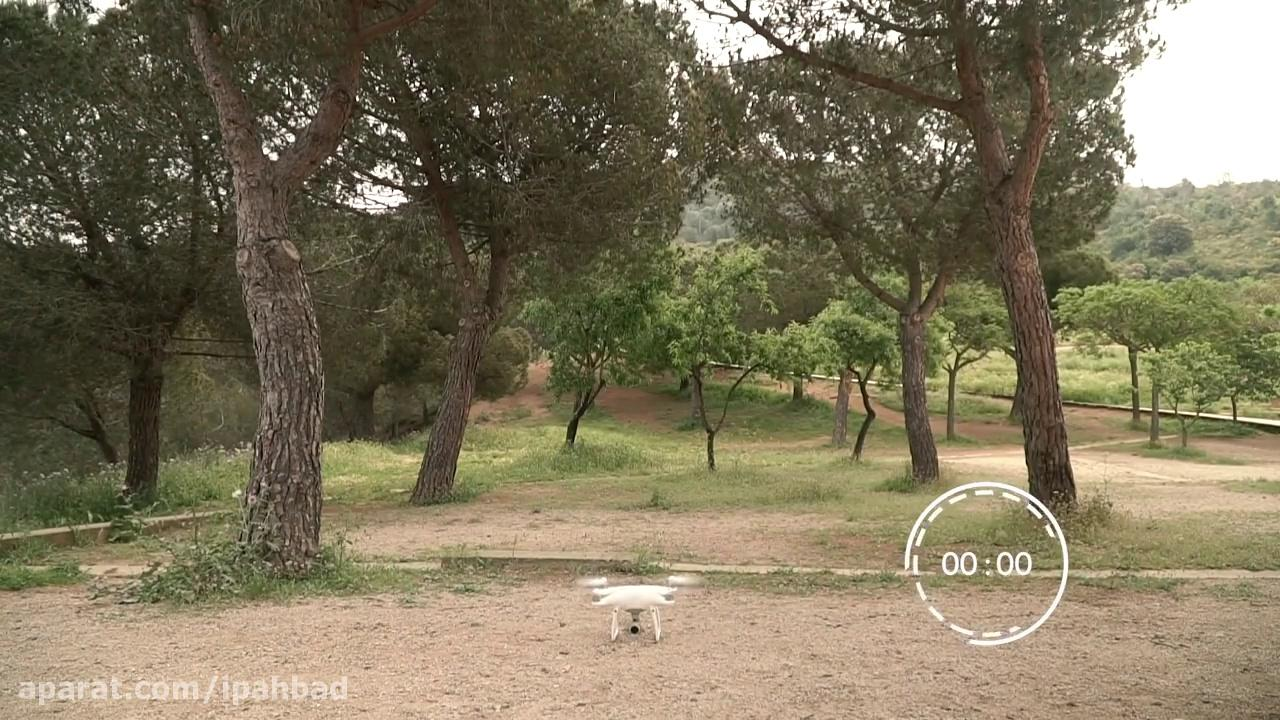drone: (573, 568, 706, 646)
